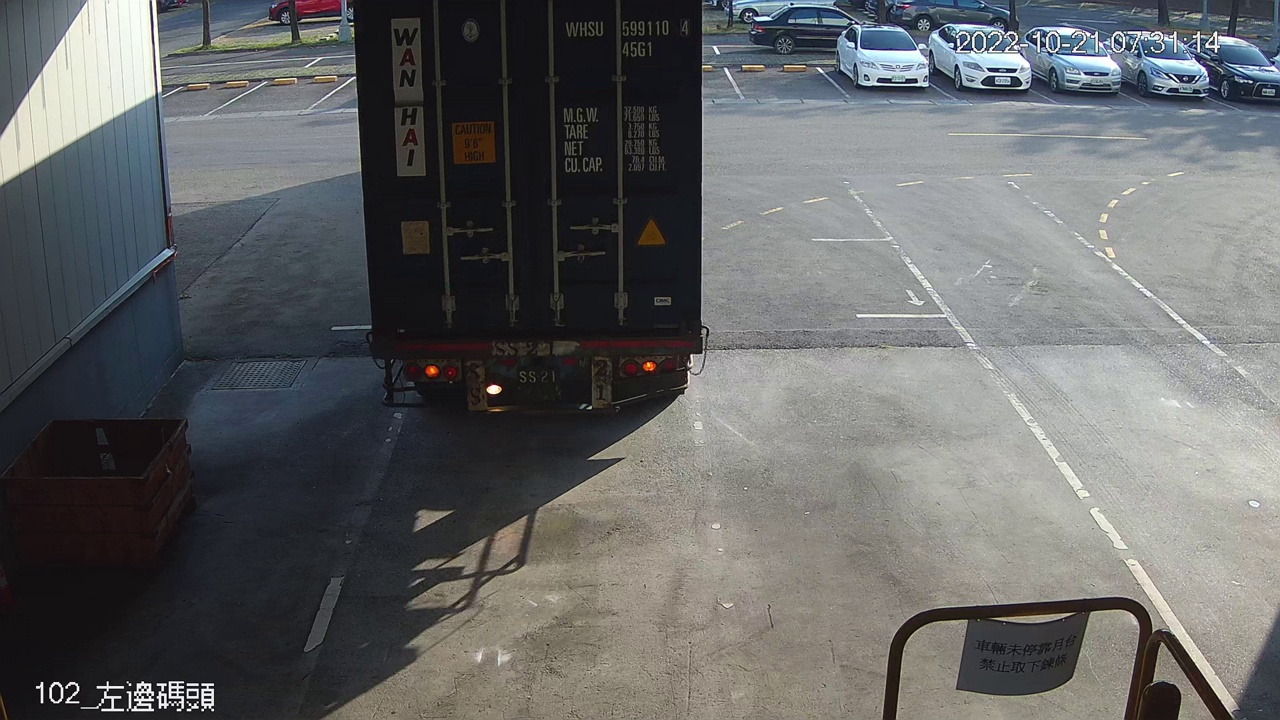container: (559, 13, 696, 63)
